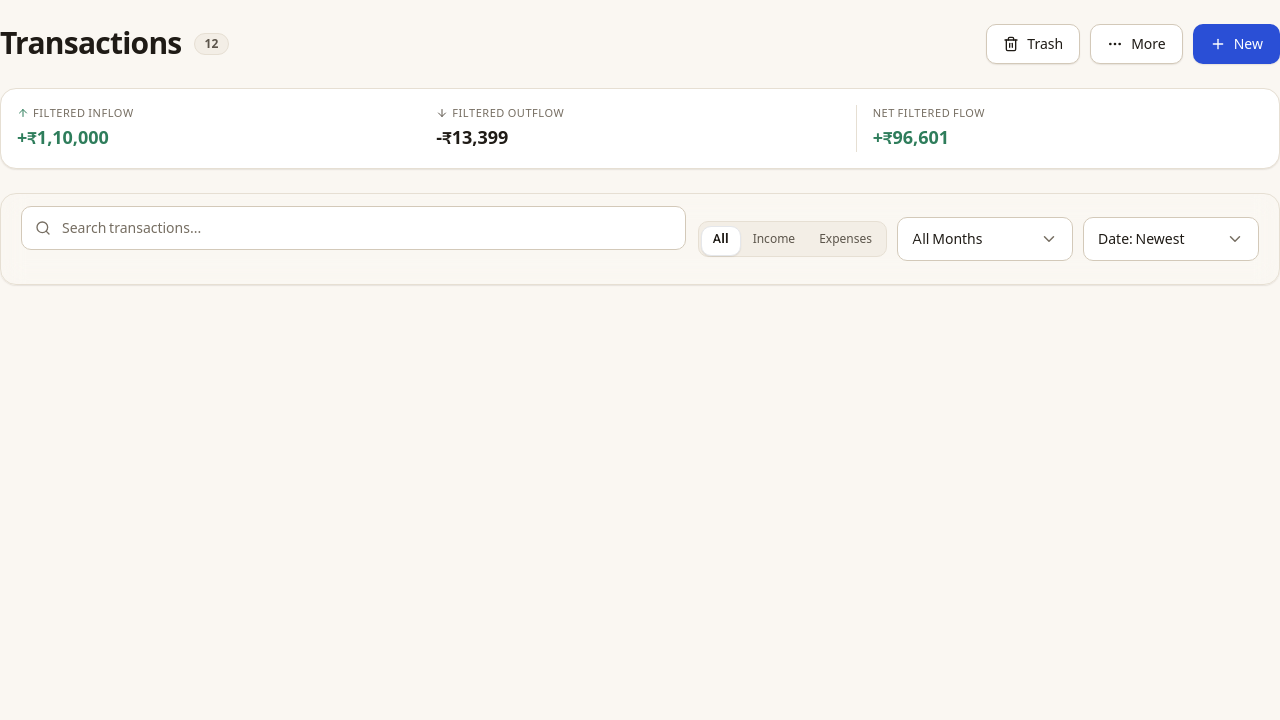
it: Phase 5: Transactions Redesign Screen › 5. More Menu & Import / Export Portability › opens More menu and exposes Import CSV and Export options
Click the button with id "txMoreMenuBtn": [1136, 44] box [1090, 24, 1183, 64]
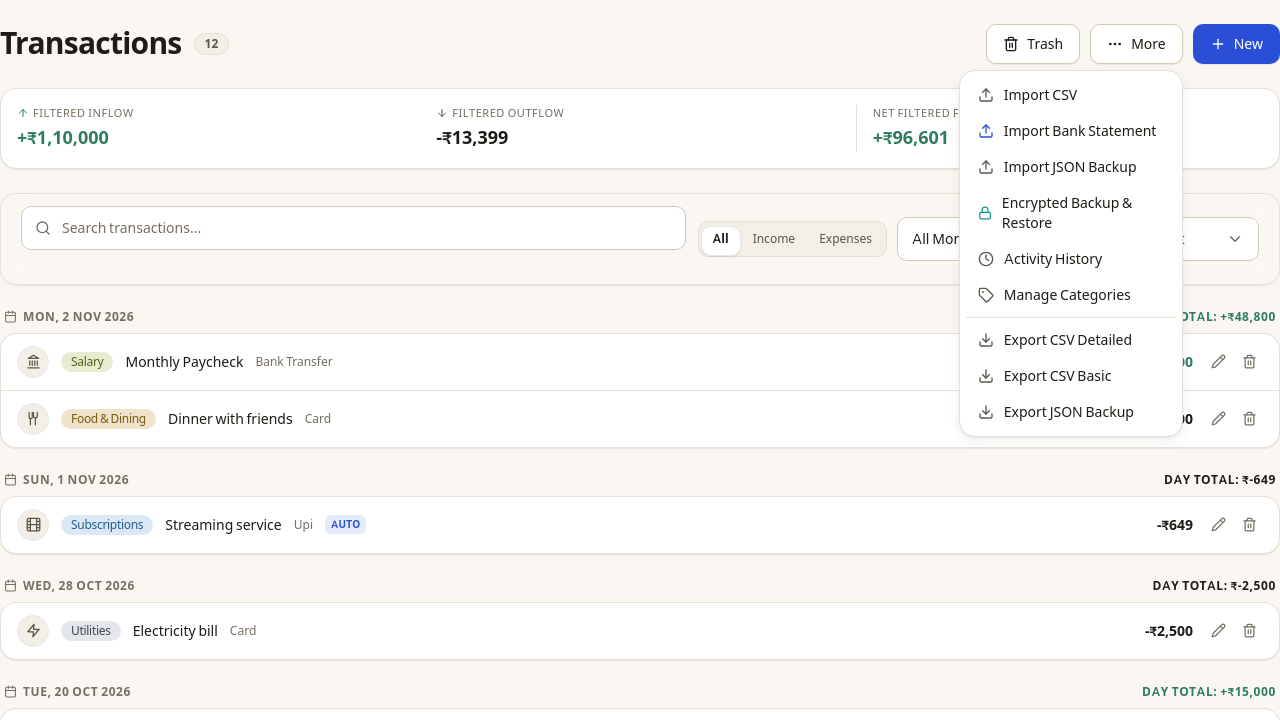
Expected: the menu item "Import CSV" is shown, [966, 77, 1176, 113]
Expected: the menu item "Import Bank Statement" is shown, [966, 113, 1176, 149]
Expected: the menu item "Export CSV Detailed" is shown, [966, 322, 1176, 358]
